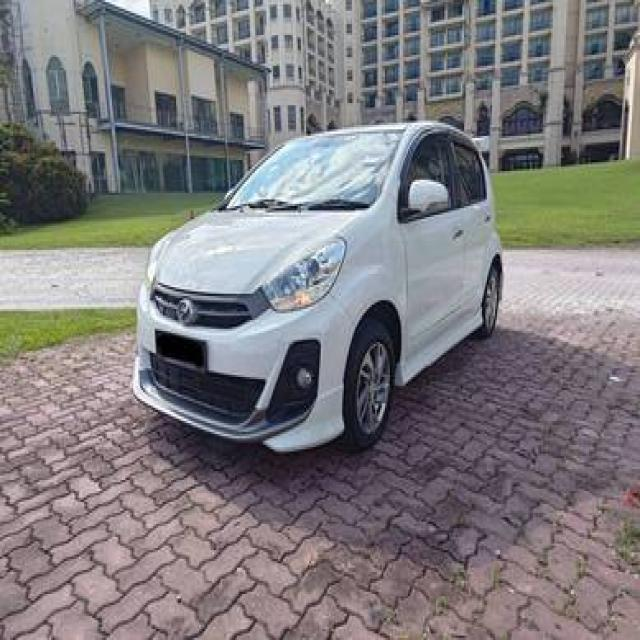PeroduaMyvi: (130, 116, 505, 456)
